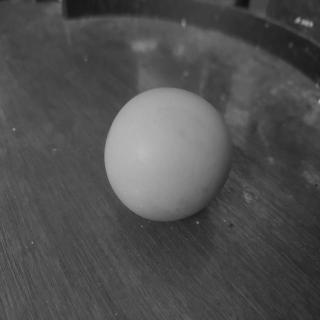Telur: (103, 82, 235, 226)
